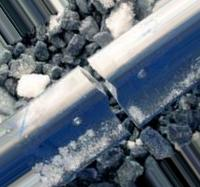tracks_fault: (67, 54, 158, 146)
